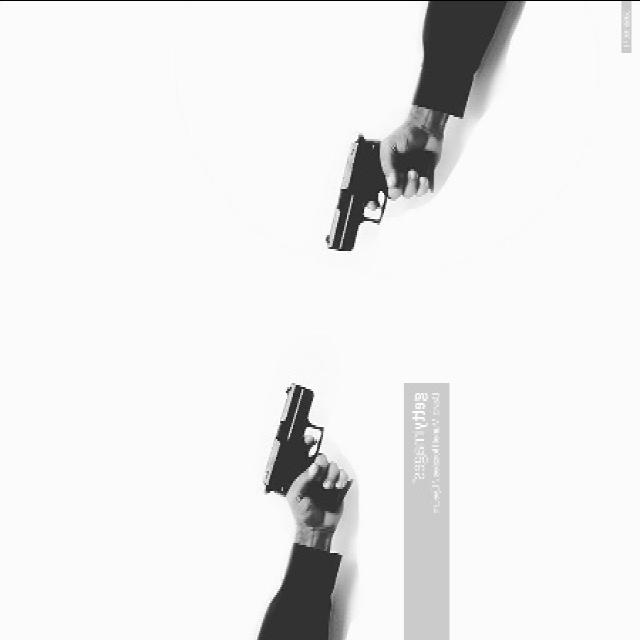handgun: (314, 117, 439, 253), (253, 375, 349, 517)
